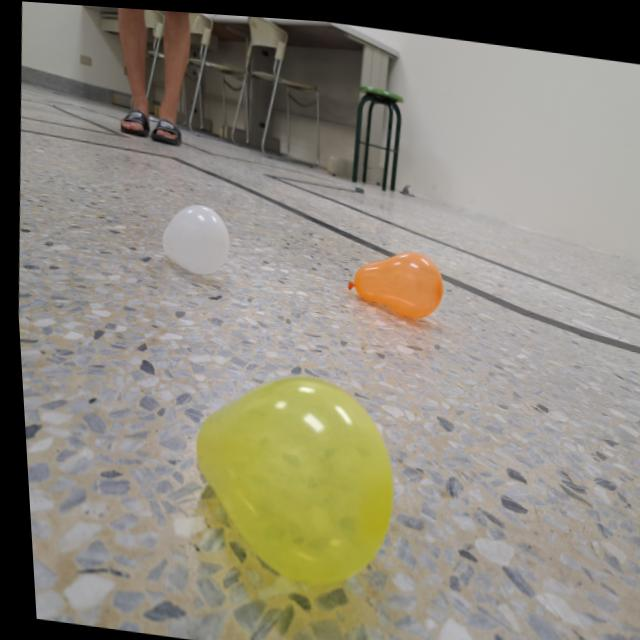other: (177, 356, 401, 595), (341, 237, 443, 319), (155, 198, 230, 278)
